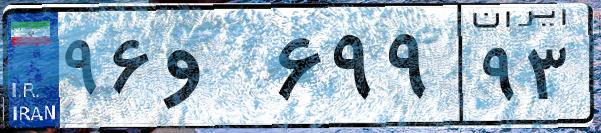3: (525, 38, 570, 115)
6: (270, 28, 330, 110), (110, 28, 158, 98)
9: (385, 28, 445, 110), (330, 28, 385, 110), (57, 26, 110, 100), (475, 38, 525, 113)
و: (158, 20, 270, 120)
